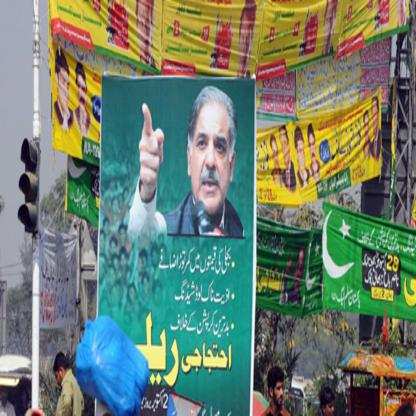face: (192, 107, 230, 214), (138, 6, 153, 59), (241, 23, 254, 75), (59, 67, 71, 110), (325, 7, 336, 50), (296, 254, 305, 288), (281, 135, 291, 165), (78, 76, 87, 109), (275, 380, 285, 406), (298, 141, 306, 170), (272, 143, 280, 170), (397, 1, 406, 25), (309, 138, 317, 164), (373, 107, 379, 135), (326, 400, 335, 416), (364, 119, 370, 141), (155, 287, 162, 305), (55, 370, 62, 386), (102, 301, 109, 316), (126, 238, 132, 255), (117, 284, 123, 301), (141, 257, 147, 272), (112, 289, 118, 304), (101, 233, 106, 250), (113, 199, 119, 213), (110, 269, 115, 285), (111, 242, 117, 255), (143, 280, 149, 293), (121, 229, 126, 244), (101, 262, 105, 279), (105, 222, 110, 235), (153, 251, 158, 264), (130, 290, 135, 303), (135, 301, 140, 314), (152, 231, 157, 244), (23, 392, 27, 405), (114, 259, 119, 269), (122, 249, 126, 261), (160, 238, 164, 248), (140, 259, 143, 272), (4, 391, 7, 404), (104, 277, 107, 289), (120, 268, 124, 277)
